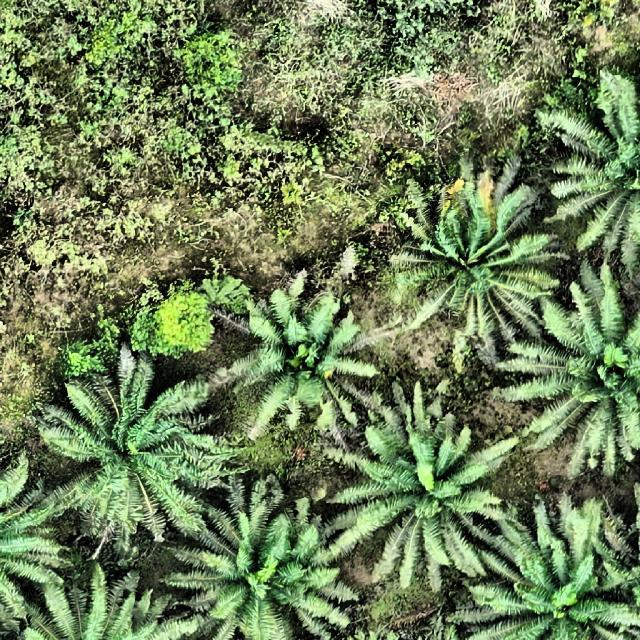Kelapa_Sawit: (26, 378, 232, 528), (451, 498, 640, 639), (350, 392, 492, 575), (181, 493, 355, 638), (510, 280, 640, 468), (398, 188, 554, 344), (531, 88, 640, 262), (233, 290, 369, 420), (28, 569, 197, 640), (0, 459, 59, 610)
